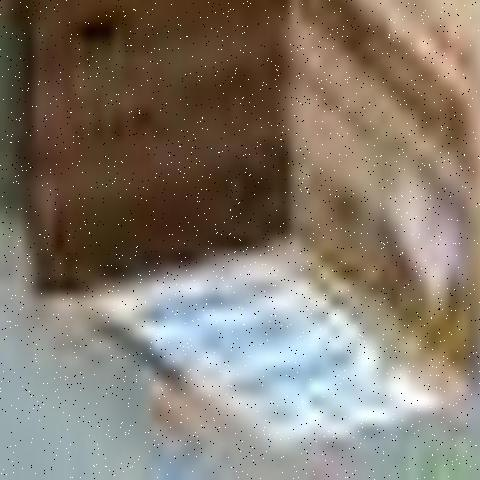Other: (51, 0, 453, 455)
